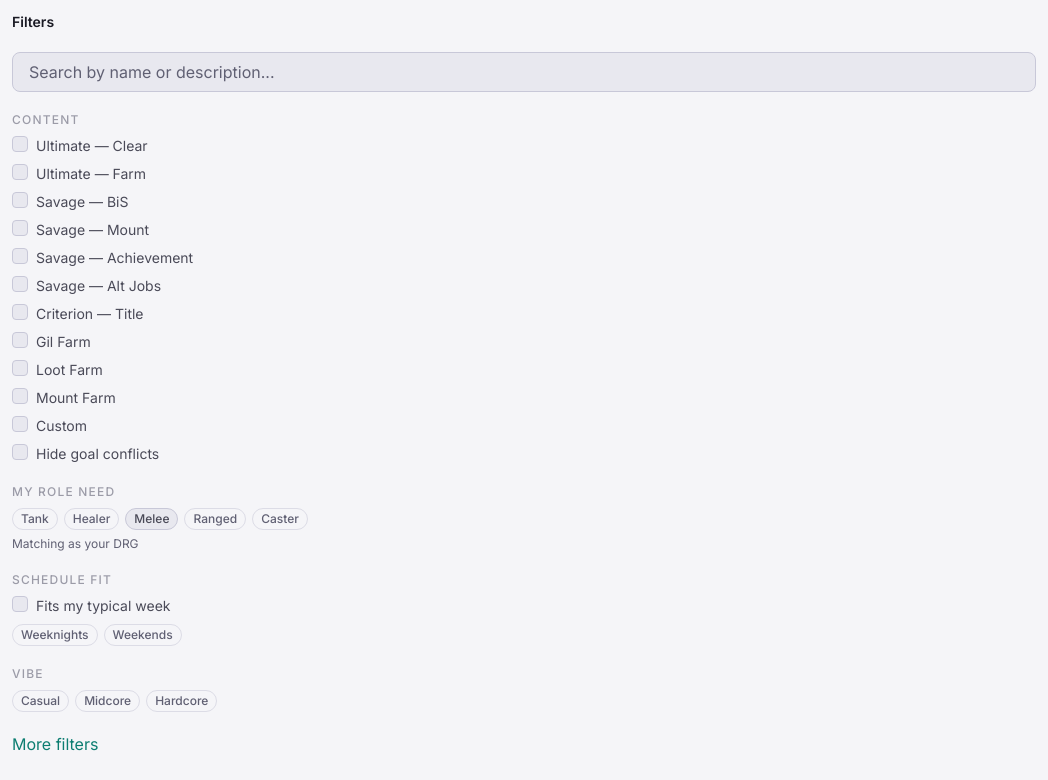
FinderFilters › the main role chip is pressed with the caption; another choice sets asRole and shows the reset link; clicking it again clears
Check: the text "Matching as your DRG" is shown, box [12,536,139,551]
Click the button "Tank" at (35, 519), box [12,508,58,530]
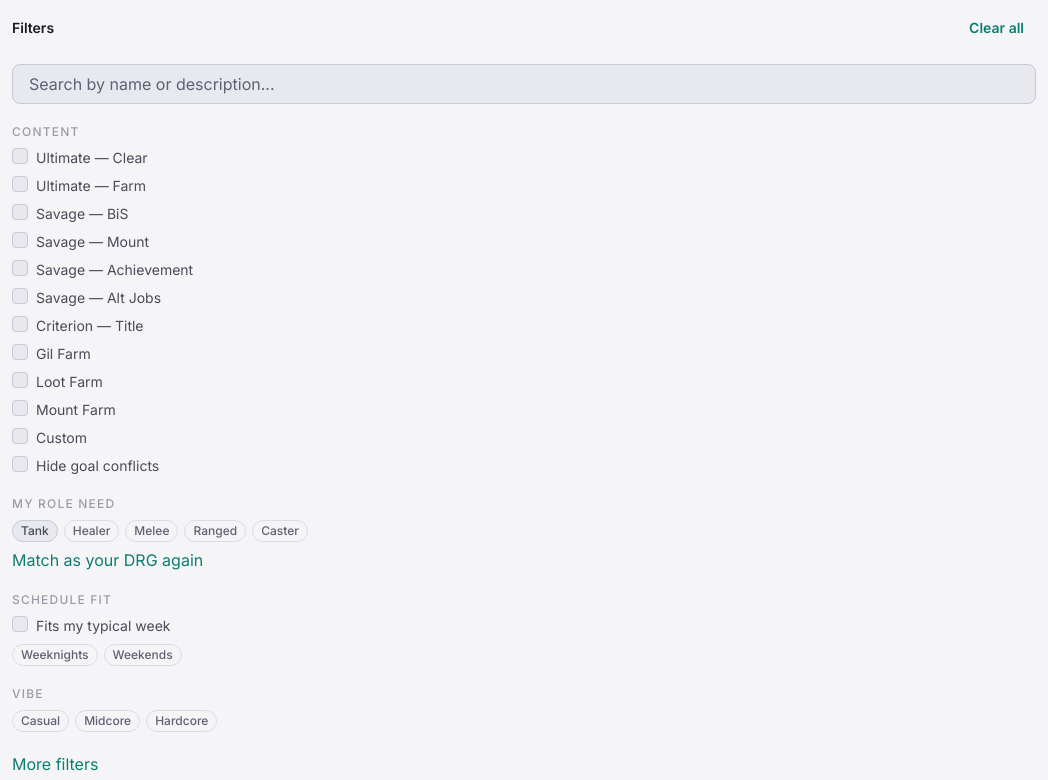
Check: the button "Match as your DRG again" is shown, box [12,548,203,572]
Click the button "Tank" at (35, 531), box [12,520,58,542]
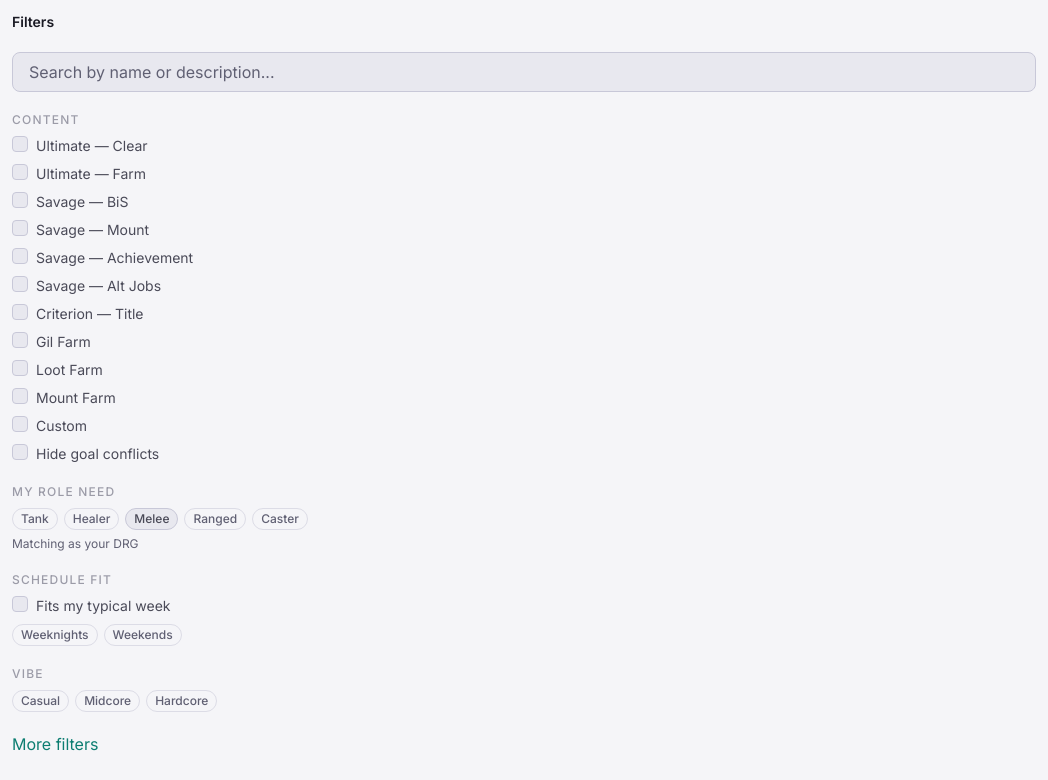
Check: the text "Matching as your DRG" is shown, box [12,536,139,551]
